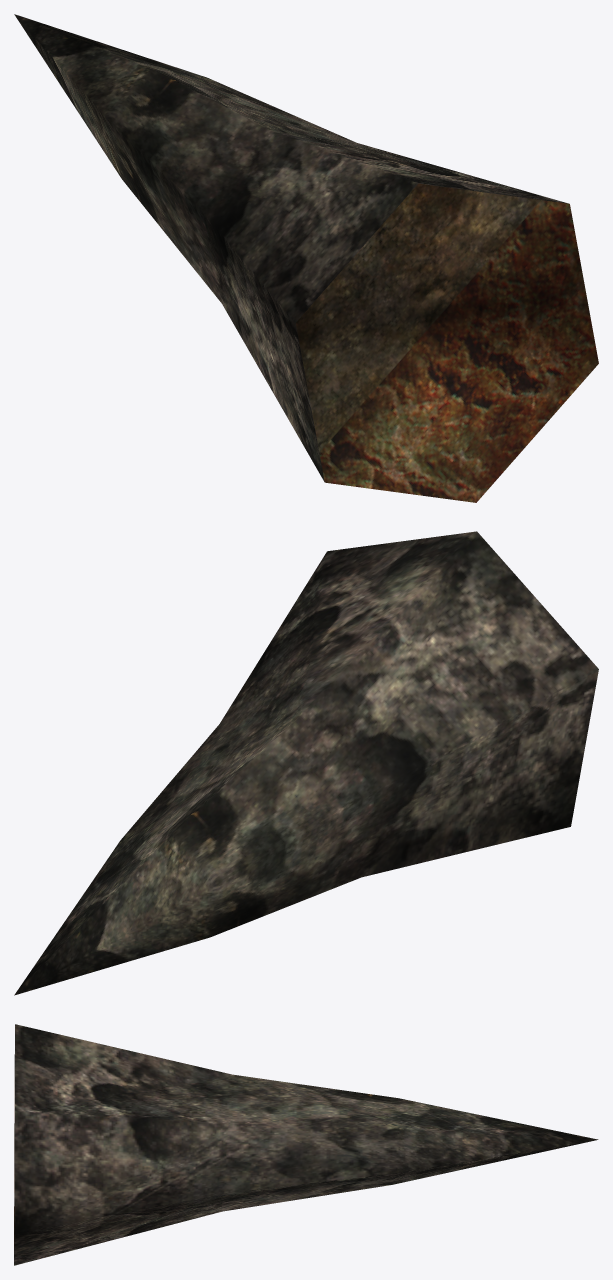
Rendered from stalactite_14.obj.
3 renders of one model, top to bottom at view 1: azimuth 30°, elevation 25°; view 2: azimuth 150°, elevation 25°; view 3: azimuth 270°, elevation 25°, orthographic. The views are drawn at different scales.
Visible parts, largest first — view 1: (null); view 2: (null); view 3: (null).
Boxes of the visible parts, x1=… form: (null): x1=14, y1=14, x2=598, y2=502; (null): x1=14, y1=531, x2=598, y2=995; (null): x1=14, y1=1024, x2=598, y2=1265.
Size of the model in its own units: 2.14 by 2.25 by 5.35.
